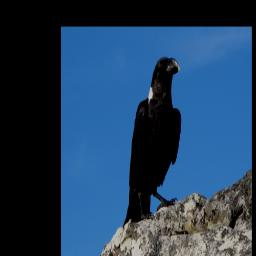Crow: (122, 53, 183, 230)
